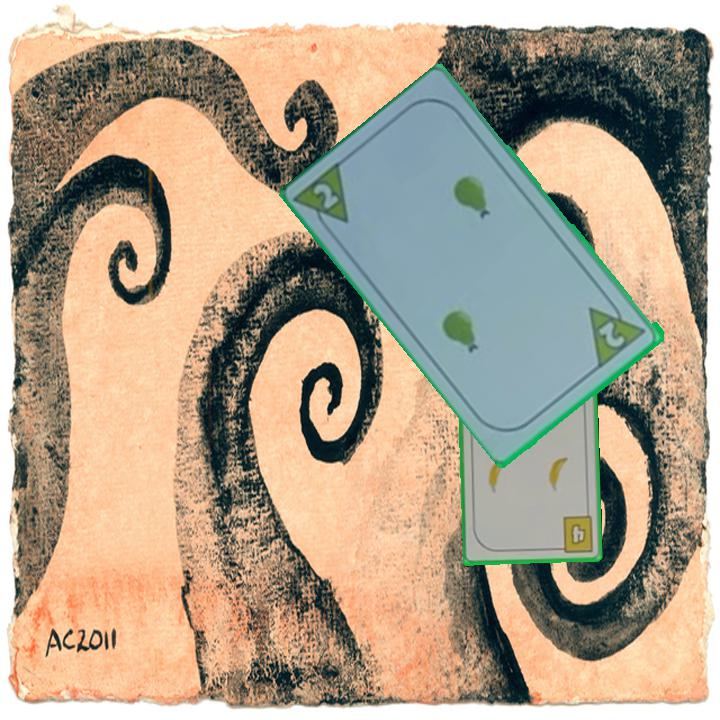2p: (585, 291, 650, 370), (293, 157, 353, 241)
4b: (553, 512, 597, 555)
